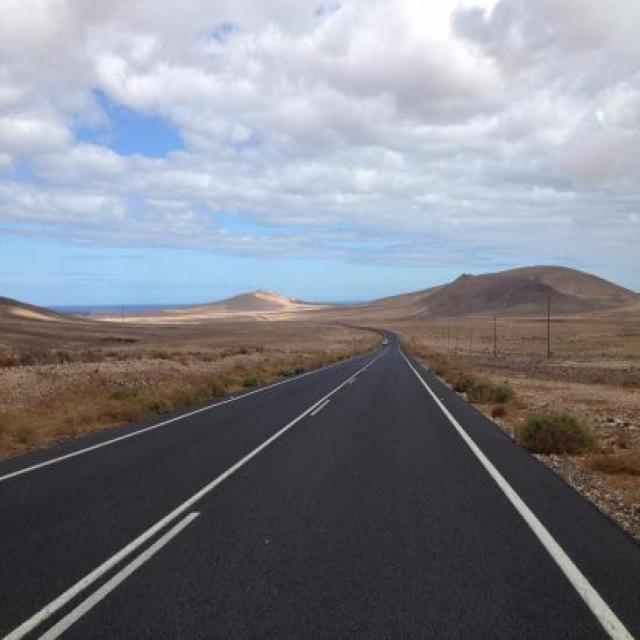cloud: (0, 0, 546, 244)
